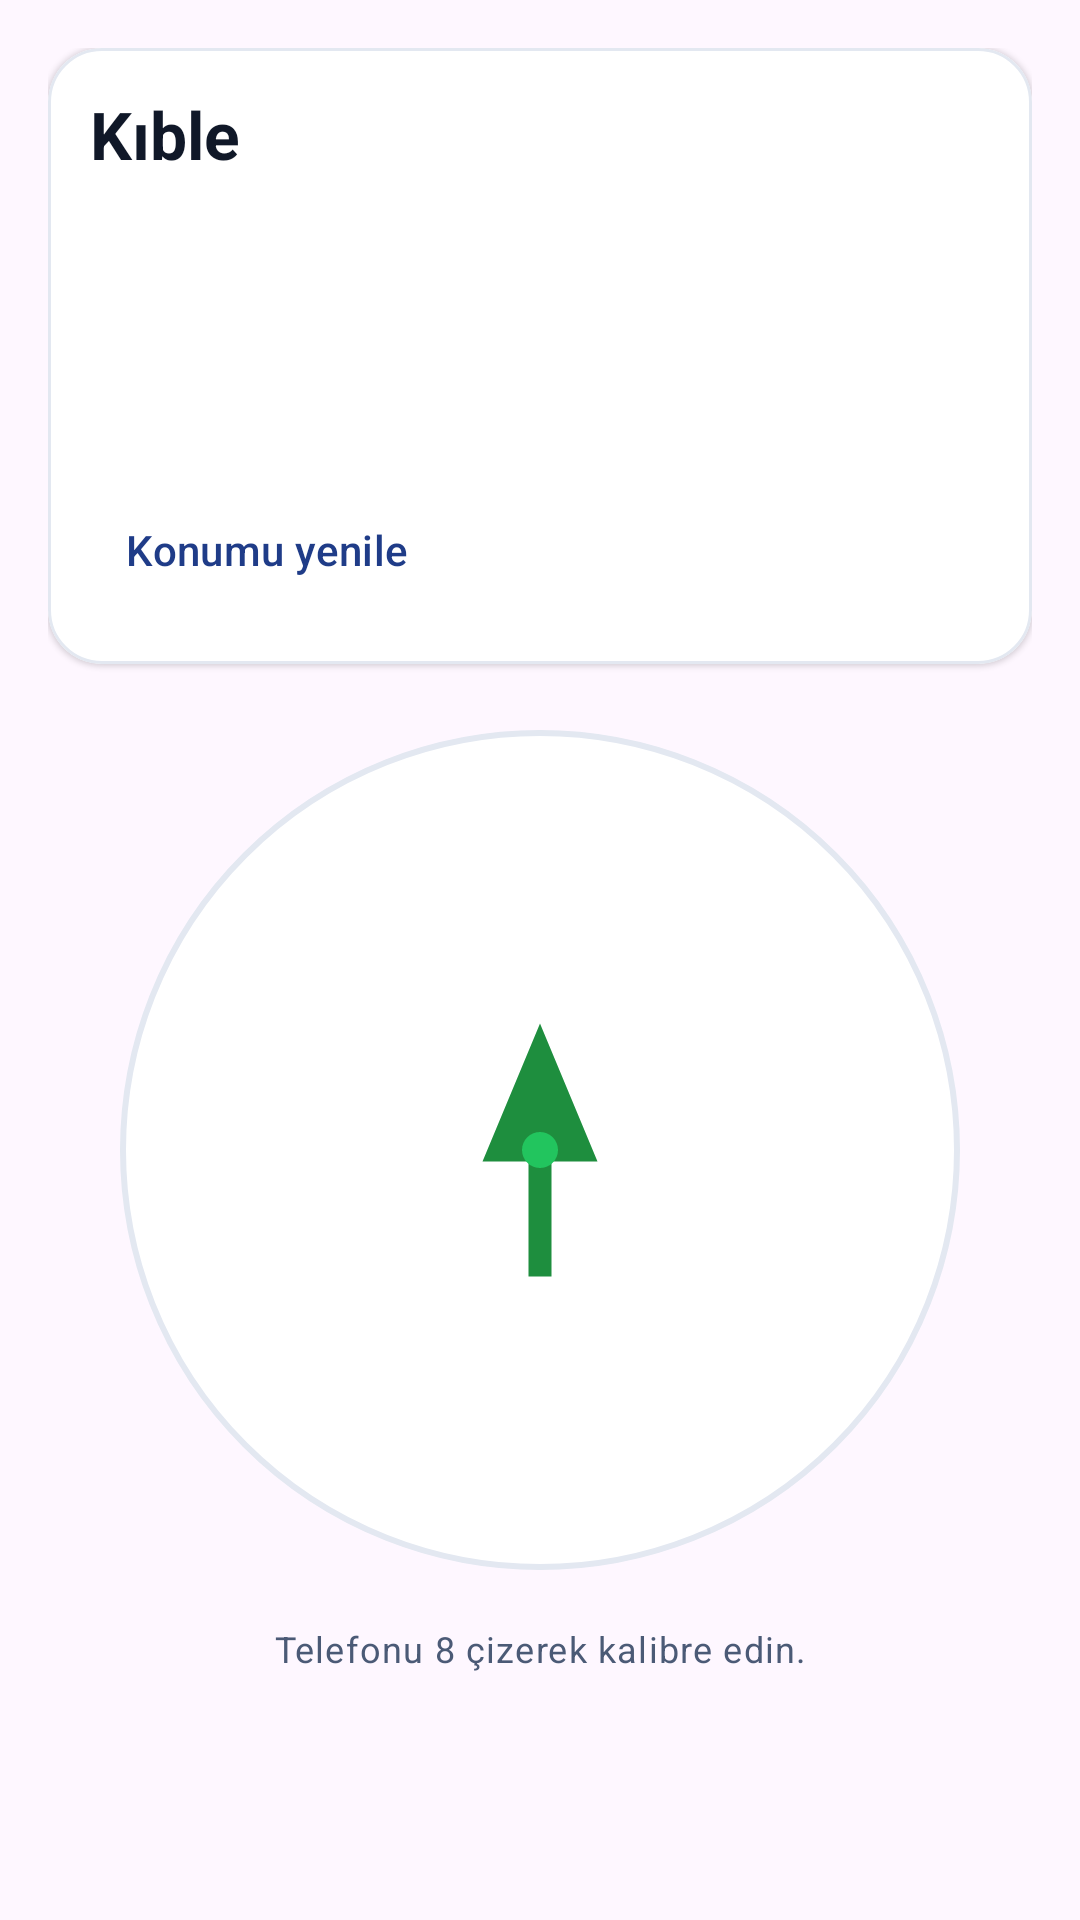

Icon click points for this 1080px x 1920px phone screenshot, format [x,y]:
qibla pointer: [540,1150]
